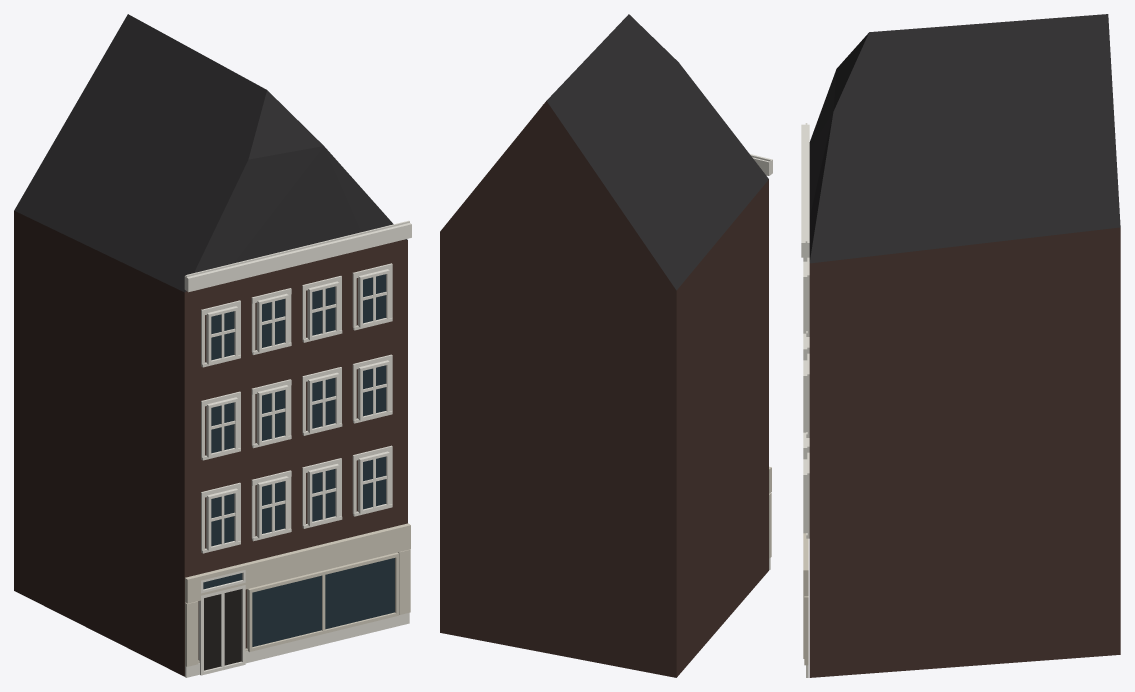
The picture shows the model from 3 angles, left to right: view 1: azimuth 30°, elevation 25°; view 2: azimuth 150°, elevation 25°; view 3: azimuth 270°, elevation 25°; orthographic projection. The views are drawn at different scales.
Parts seen in each view (by area): view 1: spec-0363100012182708; view 2: spec-0363100012182708; view 3: spec-0363100012182708.
Part boxes in pixels (x1,y1,x2,y2): spec-0363100012182708: (14,14,411,677); spec-0363100012182708: (440,14,772,677); spec-0363100012182708: (801,14,1120,677).
Bounding box in the file's own units: 7.1 × 13.98 × 6.87.
